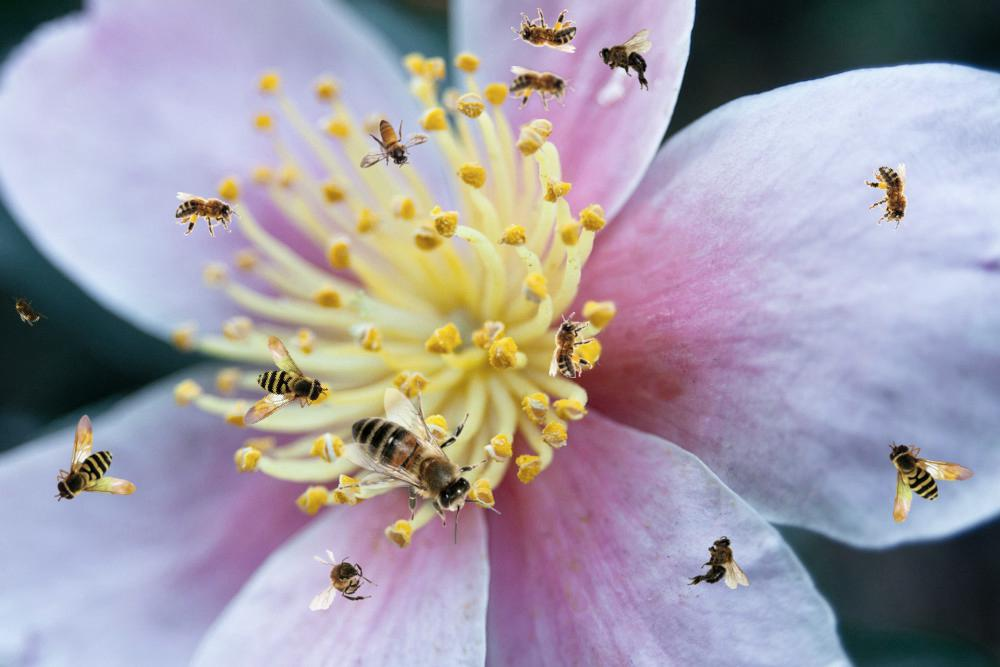Bee: (339, 379, 501, 546), (211, 328, 331, 448), (886, 441, 976, 525), (54, 414, 136, 502), (305, 545, 380, 611), (860, 161, 920, 236), (359, 119, 430, 169), (599, 29, 652, 91), (687, 536, 749, 589), (511, 8, 577, 53), (175, 192, 241, 237), (509, 66, 575, 111), (549, 312, 594, 378), (5, 287, 49, 333)
